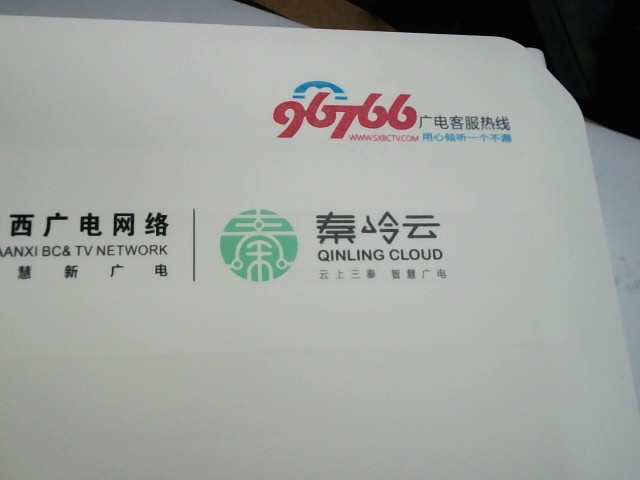AE_QinLing: (211, 196, 480, 297)
